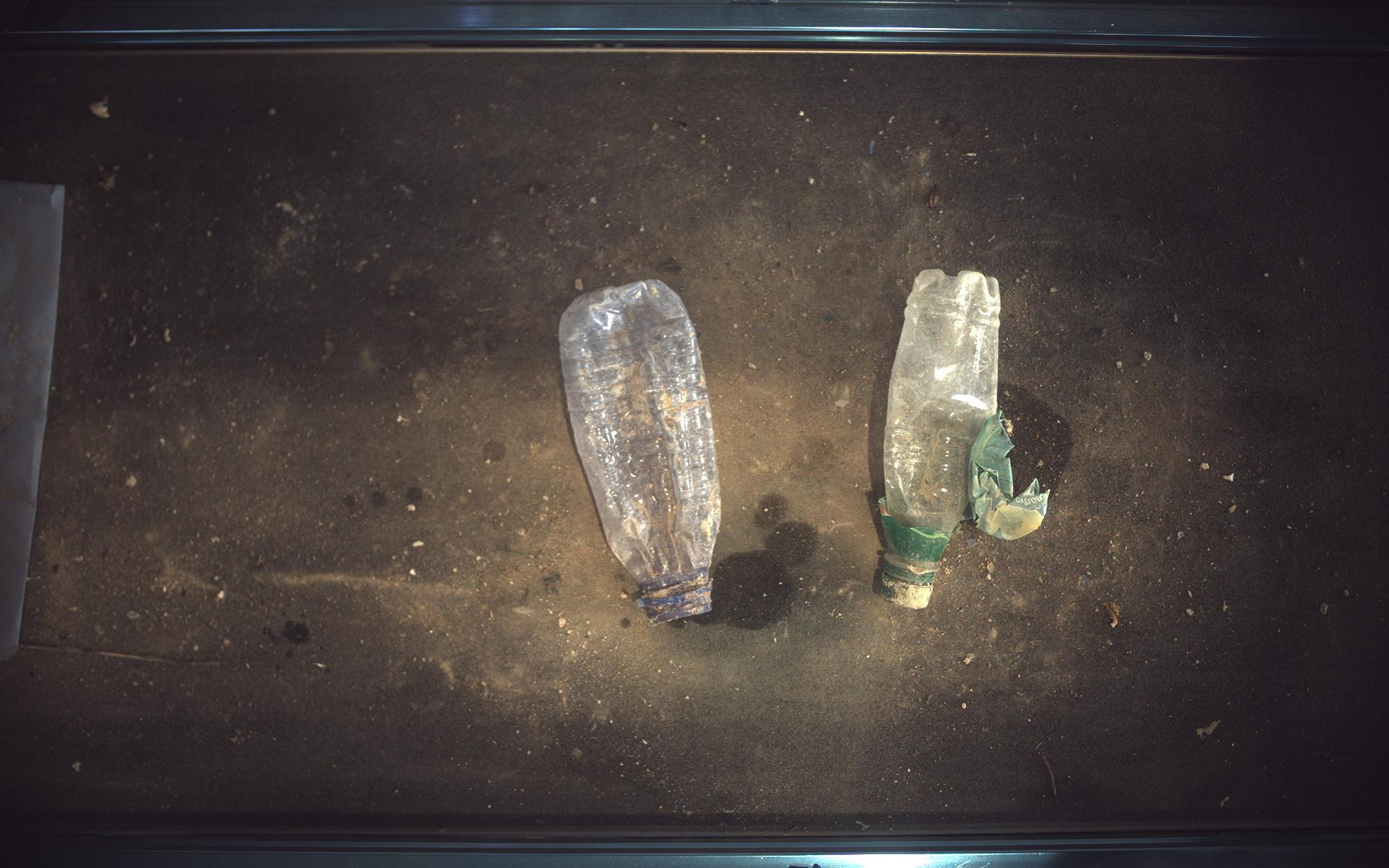general_w: (882, 268, 1050, 608), (560, 279, 722, 624)
